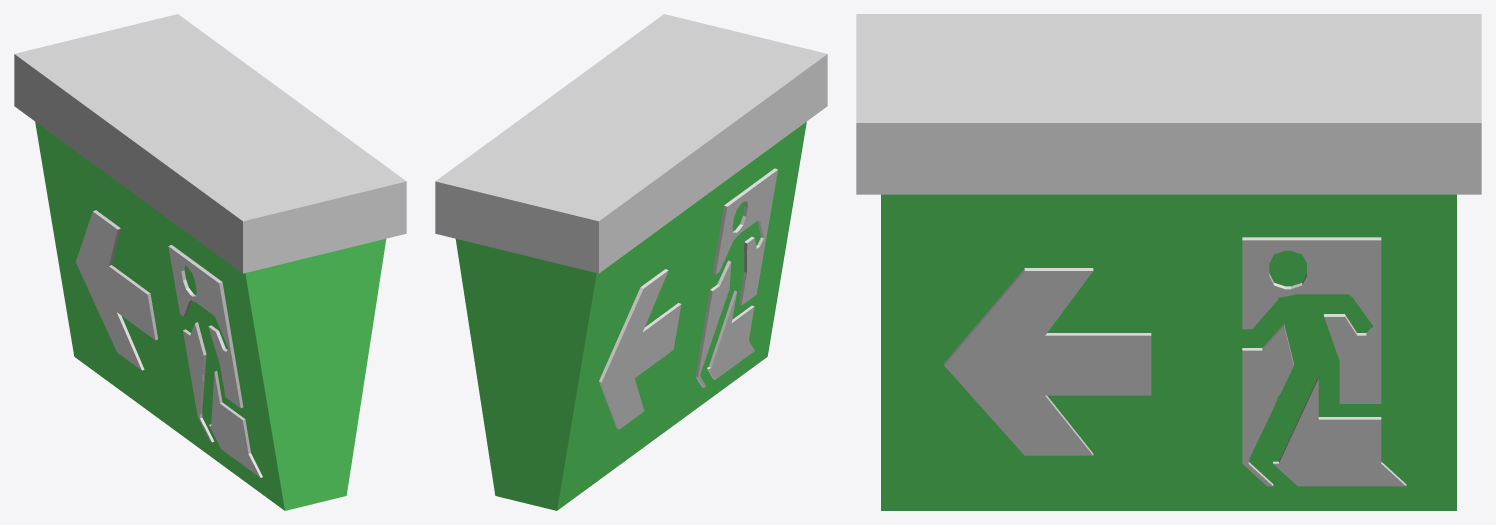
File: salida.glb
3 renders of one model, left to right at view 1: azimuth 30°, elevation 25°; view 2: azimuth 150°, elevation 25°; view 3: azimuth 270°, elevation 25°, orthographic. The views are drawn at different scales.
Parts seen in each view (by area): view 1: Plane.007, Plane.005, Plane.006; view 2: Plane.007, Plane.005, Plane.006; view 3: Plane.005, Plane.007, Plane.008.
Part boxes in pixels (<box>): Plane.007: <box>14,14,406,273</box>; Plane.005: <box>35,121,386,510</box>; Plane.006: <box>76,210,262,477</box>; Plane.007: <box>435,14,827,273</box>; Plane.005: <box>455,121,806,510</box>; Plane.006: <box>599,168,777,429</box>; Plane.005: <box>881,194,1456,510</box>; Plane.007: <box>856,14,1481,194</box>; Plane.008: <box>944,237,1406,486</box>.
Size of the model in its own units: 0.2067 by 0.3726 by 0.5005.
